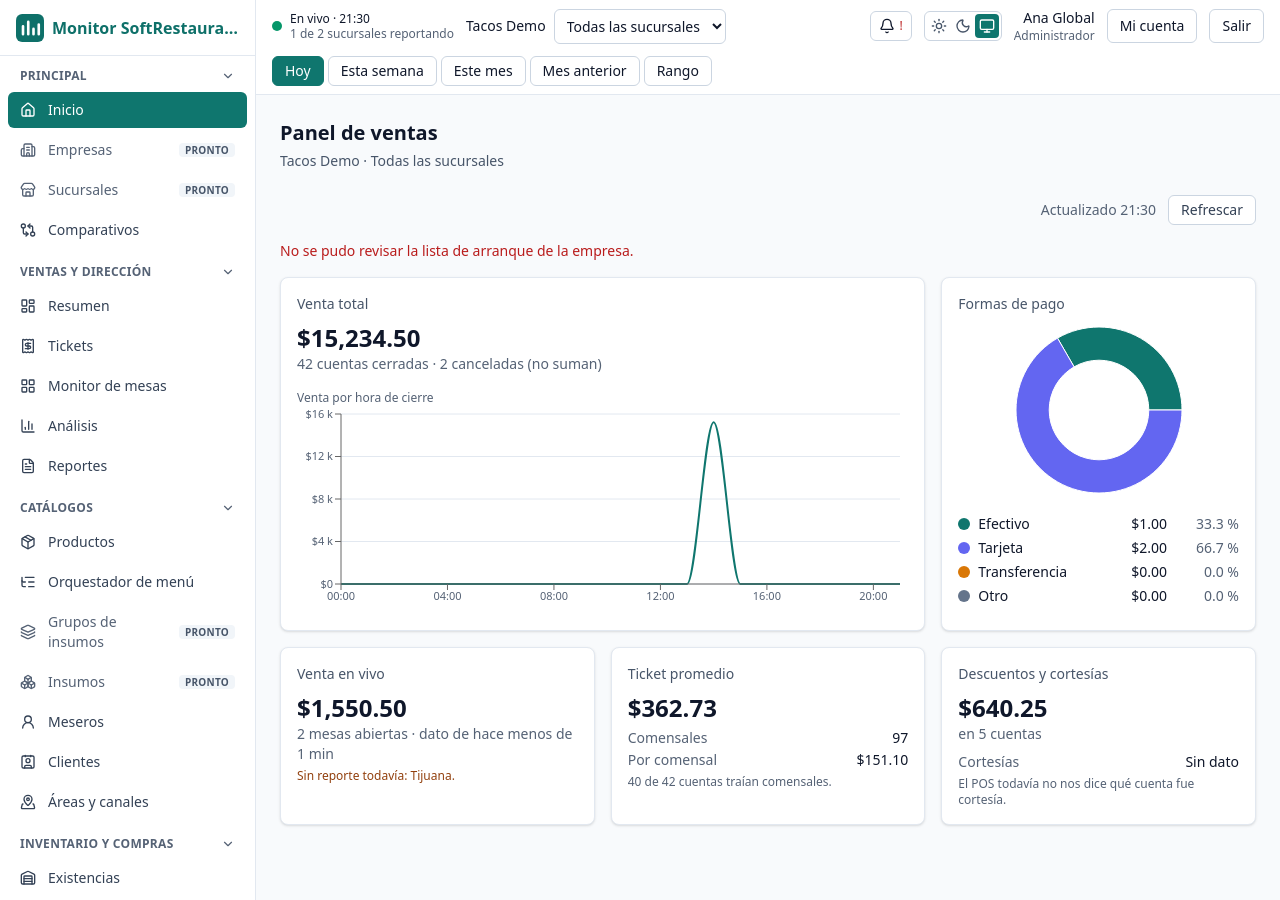
cambiar sucursal o periodo actualiza todo sin recargar › cambiar de periodo pide los días nuevos y lo deja en la URL
This screenshot has width=1280, height=900.
Check: the text "$15,234.50" is shown, box [297,321,420,354]
What coordinates should you click on to do the following:
click the button "Esta semana"
I would click on:
 (382, 71)
Its box is [328,56,437,86].
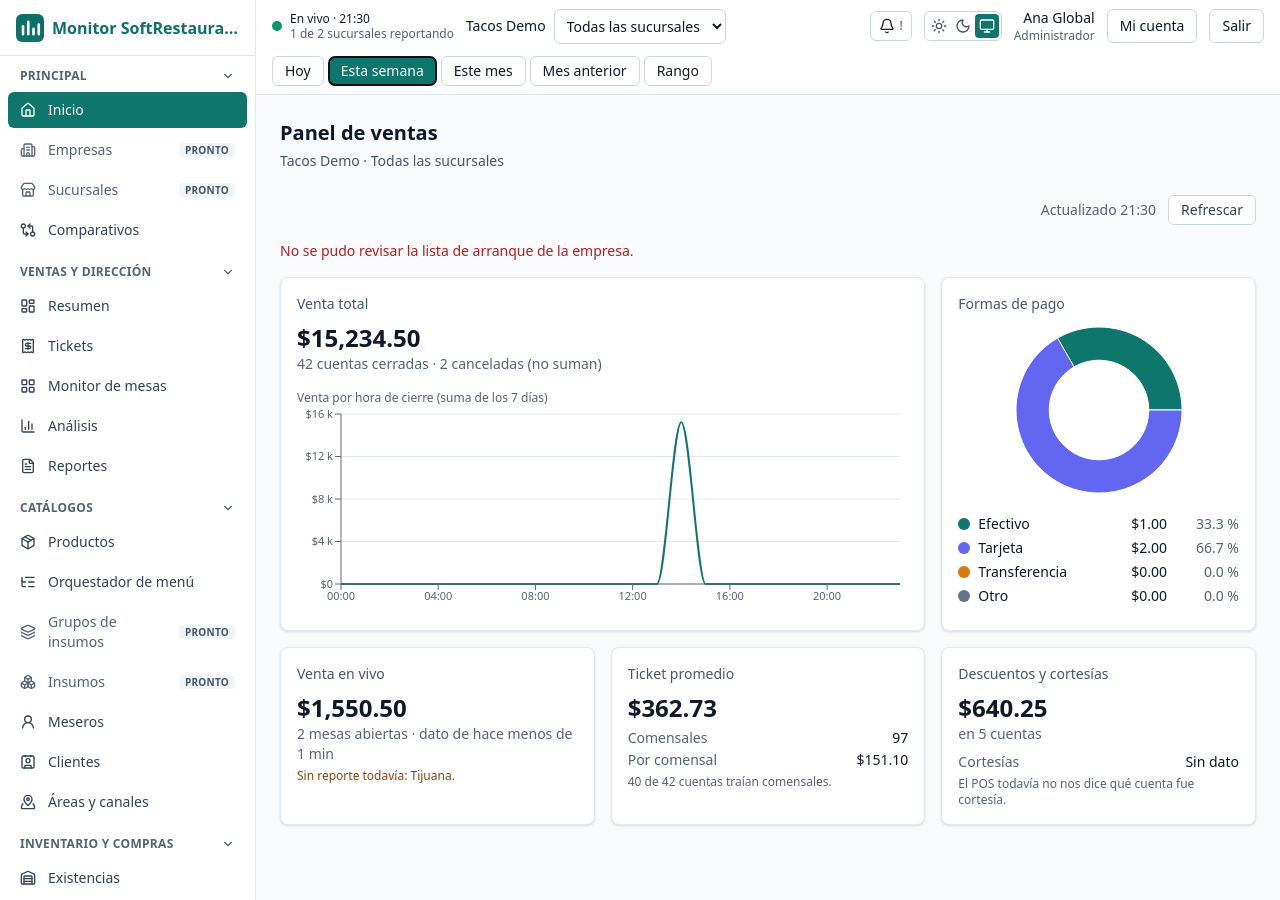
What coordinates should you click on to do the following:
click the button "Mes anterior"
I would click on:
 (585, 71)
Its box is [530,56,640,86].
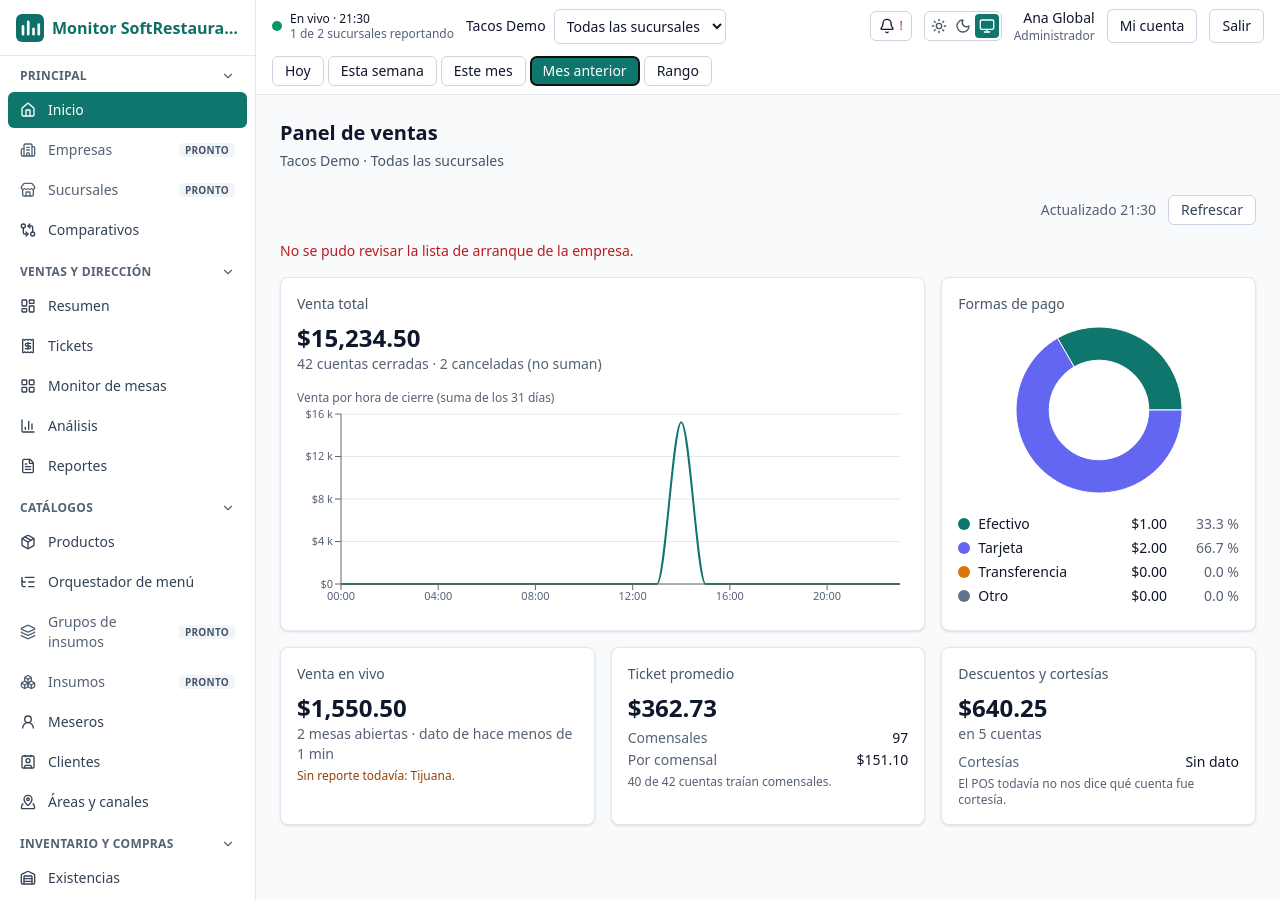
Check: the heading "Venta por hora de cierre (suma de los 31 días)" is shown, box [297,389,554,406]
